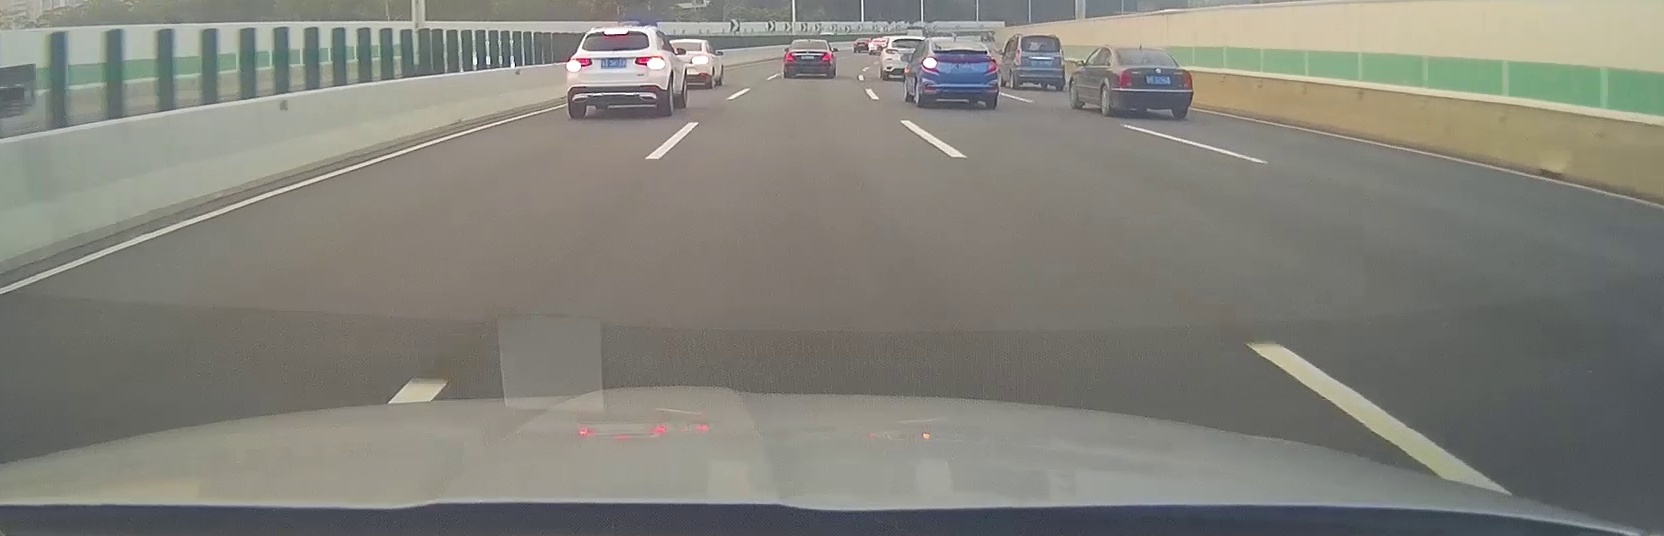L_light: (565, 57, 591, 72), (1119, 67, 1133, 87), (922, 57, 937, 69), (1013, 48, 1021, 66), (785, 53, 796, 60)
R_light: (635, 56, 666, 69), (1184, 70, 1192, 88), (986, 60, 996, 71), (1059, 49, 1065, 66), (821, 52, 832, 60)
T_light: (605, 30, 626, 34), (1137, 49, 1152, 52), (952, 40, 964, 42), (1035, 36, 1045, 38), (805, 41, 813, 44)
day-brake: (565, 25, 669, 119)
day-left: (919, 37, 999, 108)
day-no: (1113, 46, 1193, 119), (1012, 33, 1065, 89), (784, 39, 834, 77)
